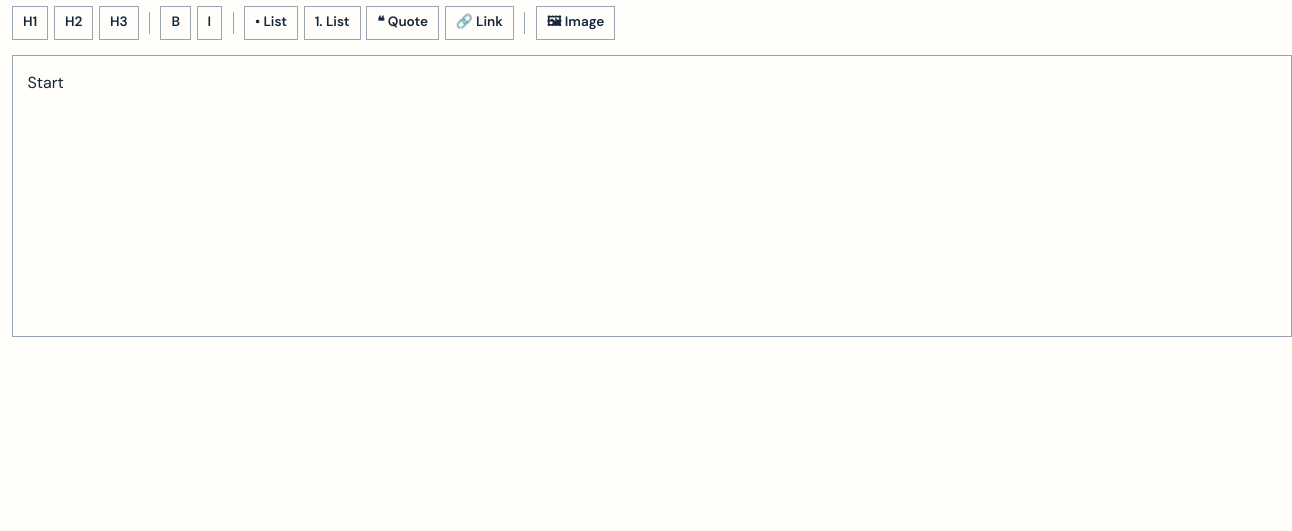
Test: RichTextEditor › closes the link form on Escape without changing the body
Click the button "🔗 Link" at (479, 23), box [445,6,514,40]
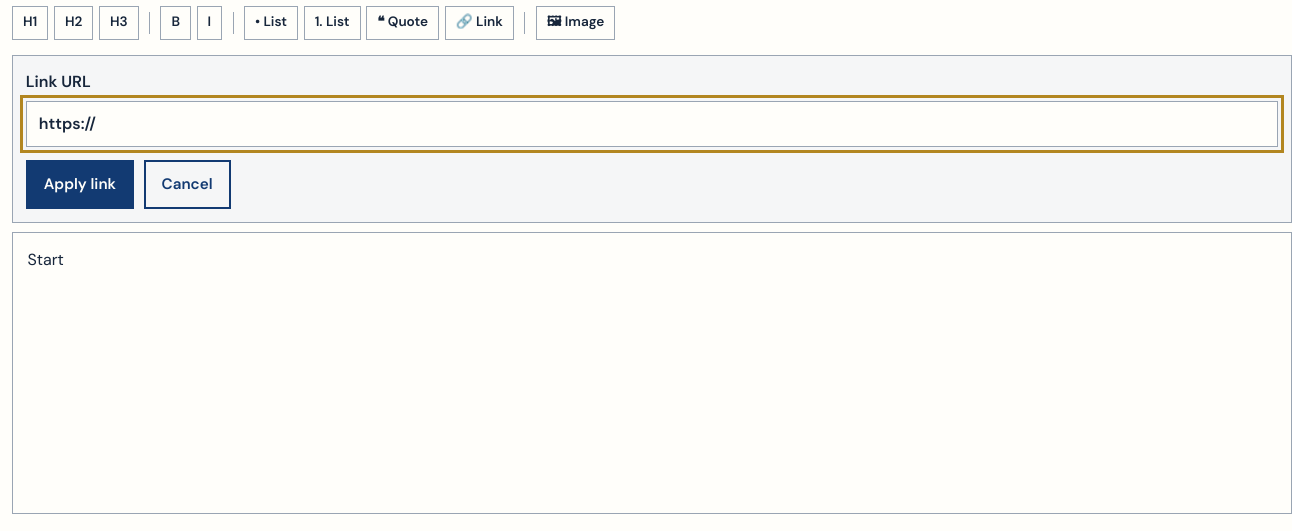
Press Escape in the field labelled "Link URL", box [26,101,1278,147]
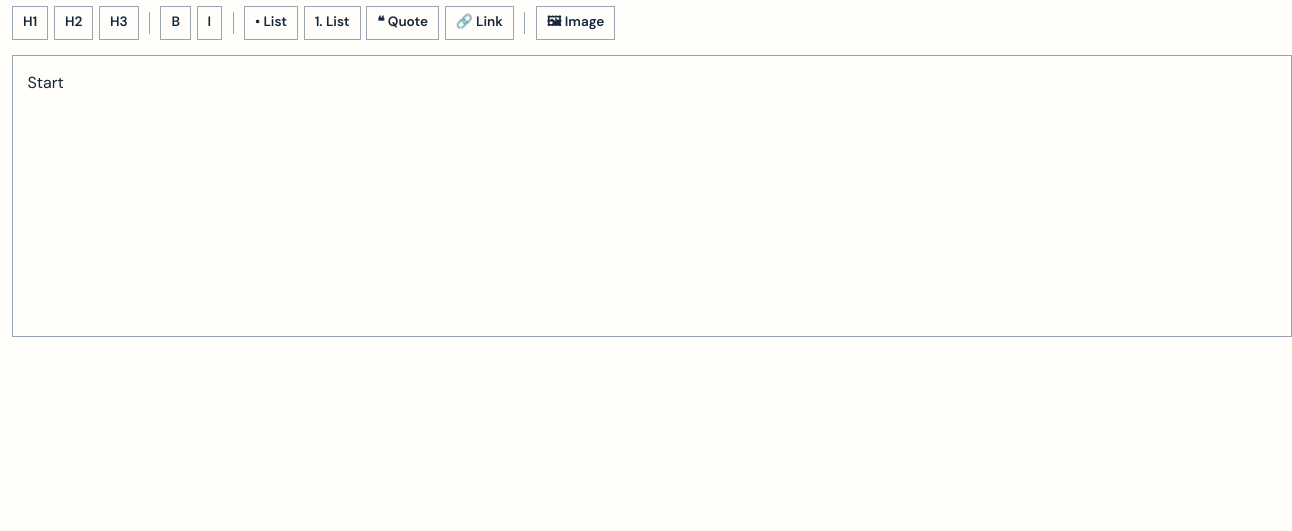
Expected: the text "Link URL" is gone
